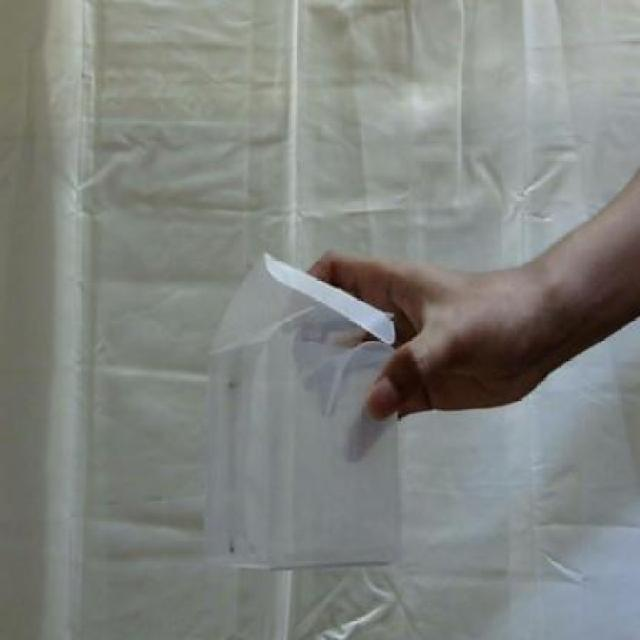Plastic: (194, 246, 408, 594)
